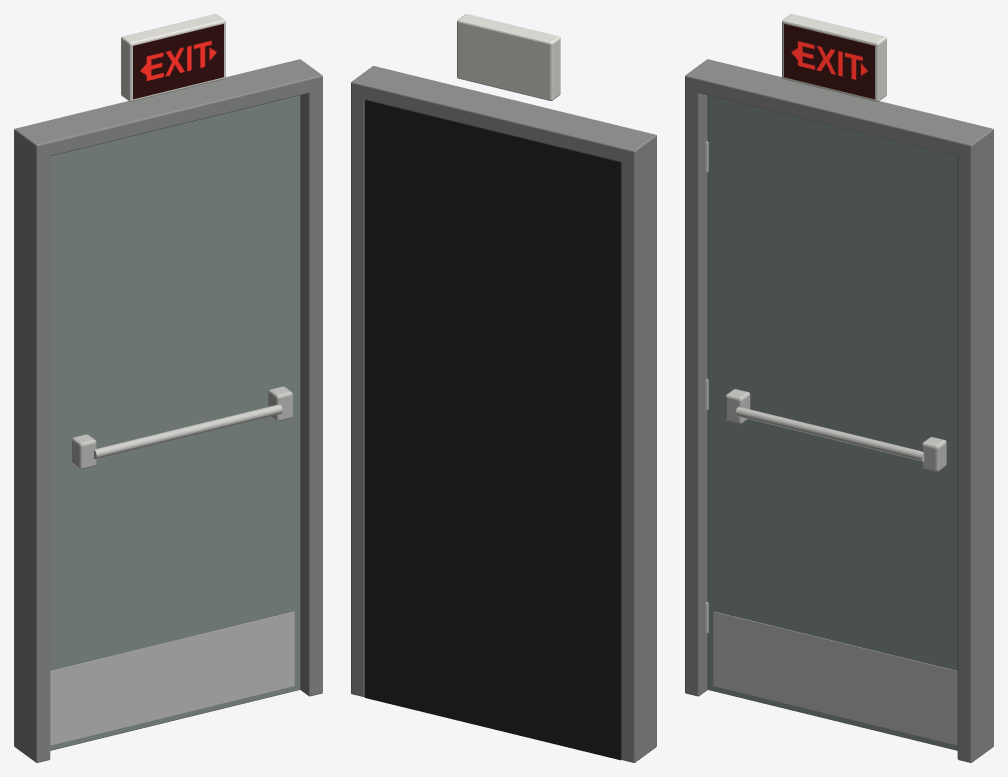
File: exit_door.glb
3 renders of one model, left to right at view 1: azimuth 30°, elevation 25°; view 2: azimuth 150°, elevation 25°; view 3: azimuth 330°, elevation 25°, orthographic.
Visible parts, largest first — view 1: Door, Frame, ExitSign; view 2: Frame, ExitSign; view 3: Door, Frame, ExitSign.
Boxes of the visible parts, box(x1,y1,x2,y2) form: Door: box(50, 95, 300, 750); Frame: box(14, 59, 322, 762); ExitSign: box(121, 14, 225, 101); Frame: box(351, 66, 656, 762); ExitSign: box(457, 14, 560, 100); Door: box(705, 95, 957, 750); Frame: box(685, 59, 993, 762); ExitSign: box(782, 14, 886, 101).
Bounding box in the file's own units: 1.01 × 2.34 × 0.1675.
6 materials, 1 textured.
